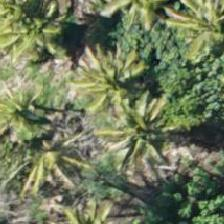coconut_tree: (97, 89, 187, 179), (63, 37, 153, 127), (5, 113, 95, 203), (0, 69, 64, 159), (165, 0, 223, 74), (0, 0, 61, 63)
